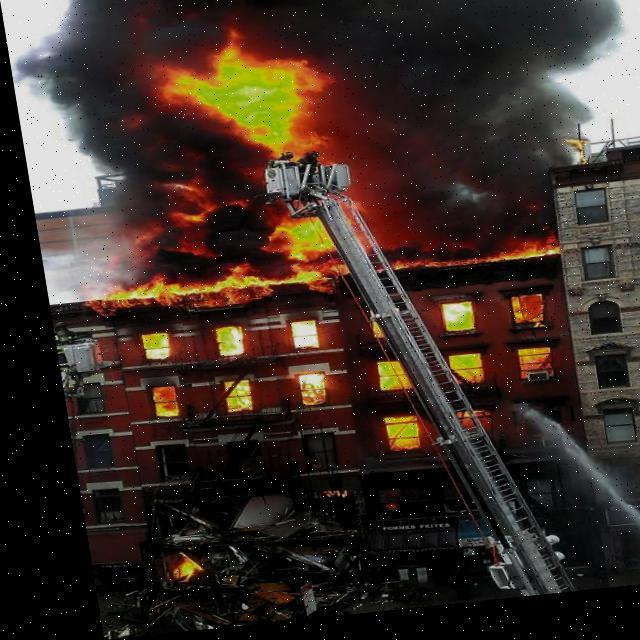Fire: (65, 16, 558, 311)
